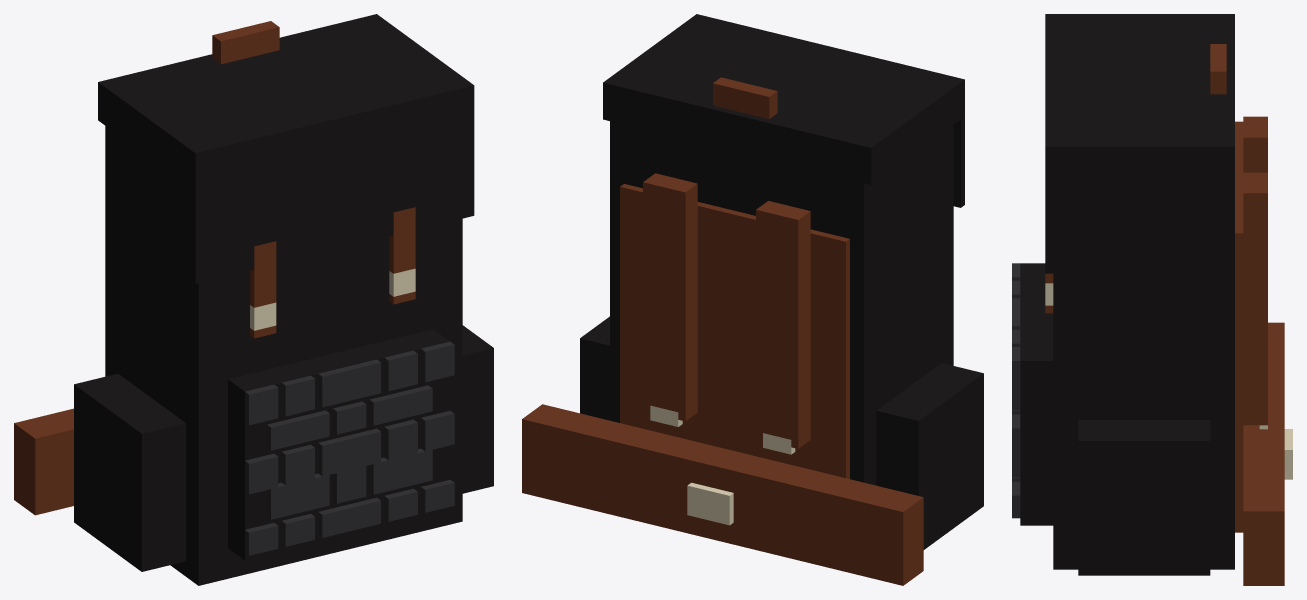
The model's file is backpack_black_dragon_hide.glb.
3 renders of one model, left to right at view 1: azimuth 30°, elevation 25°; view 2: azimuth 150°, elevation 25°; view 3: azimuth 270°, elevation 25°, orthographic. The views are drawn at different scales.
Visible parts, largest first — view 1: backpack_black_dragon_hide:compound; view 2: backpack_black_dragon_hide:compound; view 3: backpack_black_dragon_hide:compound.
Boxes of the visible parts, <box> form: backpack_black_dragon_hide:compound: <box>14,14,493,585</box>; backpack_black_dragon_hide:compound: <box>522,14,983,585</box>; backpack_black_dragon_hide:compound: <box>1012,14,1292,585</box>.
Bounding box in the file's own units: 0.54 × 0.6 × 0.34.
